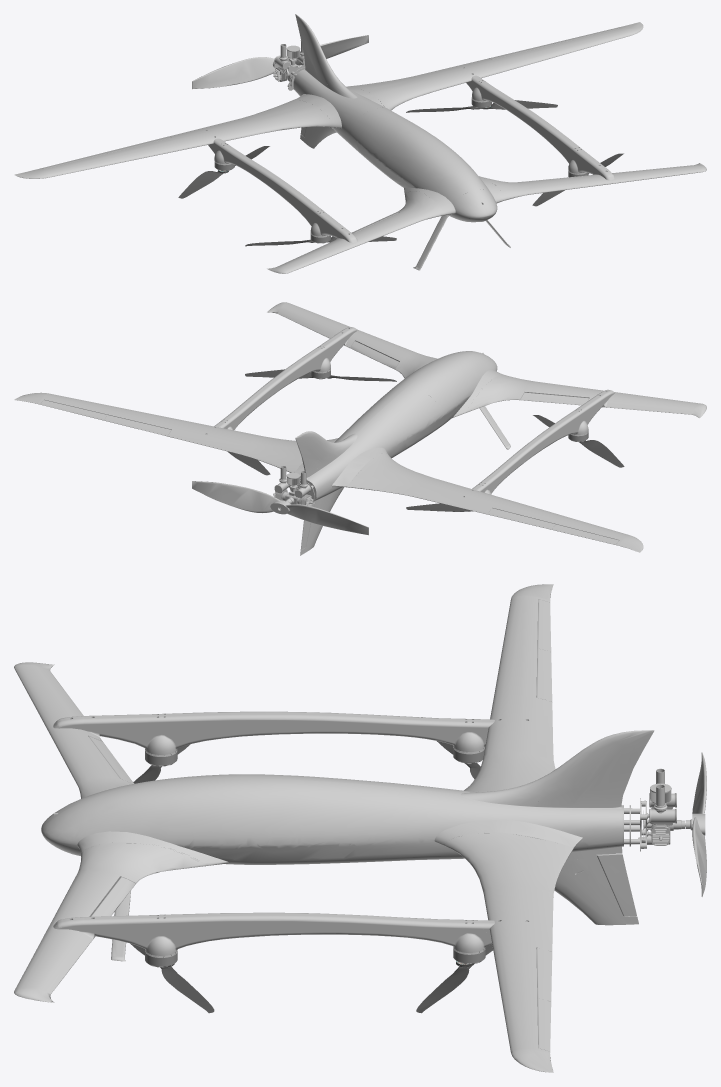
Rendered from damisa.glb.
3 renders of one model, top to bottom at view 1: azimuth 30°, elevation 25°; view 2: azimuth 150°, elevation 25°; view 3: azimuth 270°, elevation 25°, orthographic. The views are drawn at different scales.
Parts seen in each view (by area): view 1: Body1; view 2: Body1; view 3: Body1.
Boxes of the visible parts, box(x1,y1,x2,y2) form: Body1: box(14, 14, 706, 273); Body1: box(14, 302, 706, 555); Body1: box(14, 584, 706, 1072).
Bounding box in the file's own units: 510 × 94.32 × 306.
Materials: 1 (1 with a texture image).
